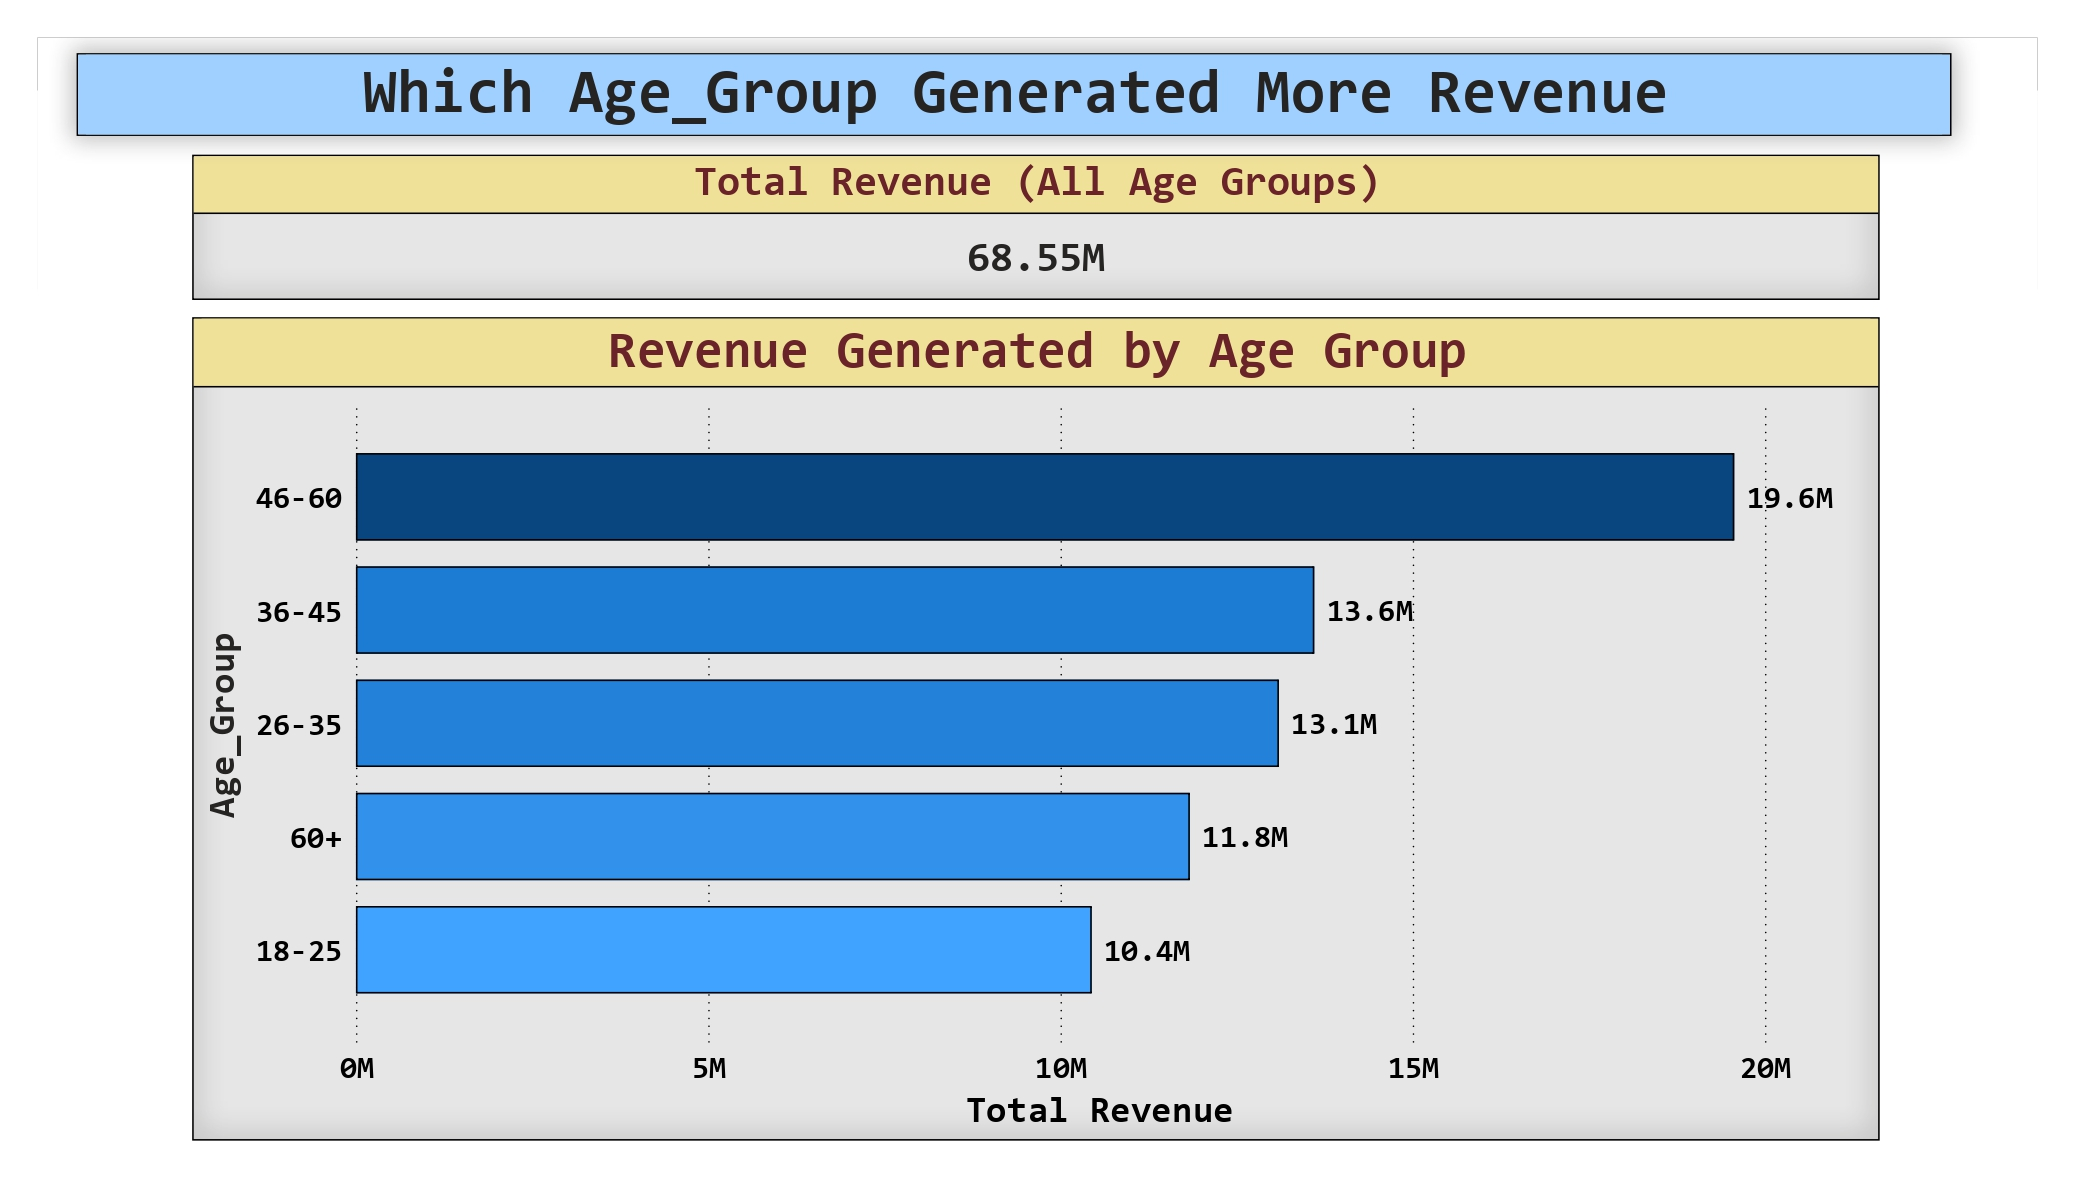

Layout of this report page (visuals, bound fields, positions):
{"tool":"powerbi","page":{"name":"7","canvas":[1280,720],"ordinal":6},"visuals":[{"type":"card","title":"Total Revenue (All Age Groups)","fields":{"Values":["Sum(customer.revenue)"]},"box":[99,74.6,1079.8,92.9],"z":0},{"type":"clusteredBarChart","title":"Revenue Generated by Age Group","fields":{"Category":["customer.age_group"],"Y":["Sum(customer.revenue)"]},"box":[99,178.5,1079.8,527],"z":1000},{"type":"textbox","title":"Which Age_Group Generated More Revenue","box":[25,10,1200,53],"z":2000}]}

Visuals, with their boxes on the page's 1280x720 design canvas (x1, y1, x2, y2). These are canvas units, not pixel positions in the 2075x1200 screenshot, which may show the page scaled, cropped or inside an application window:
"Total Revenue (All Age Groups)" card: 99:75:1179:168
"Revenue Generated by Age Group" clusteredBarChart: 99:178:1179:706
"Which Age_Group Generated More Revenue" textbox: 25:10:1225:63
